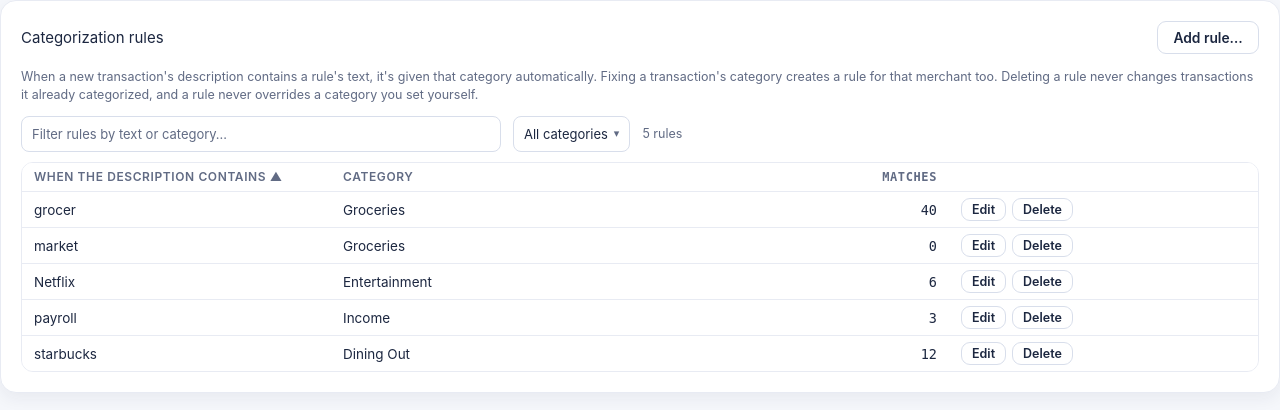
RulesManager list › can be narrowed to one category, and says how much of the list is showing
Step 1. Click the button "All categories ▾" → point(572, 134), box [513, 116, 630, 152]
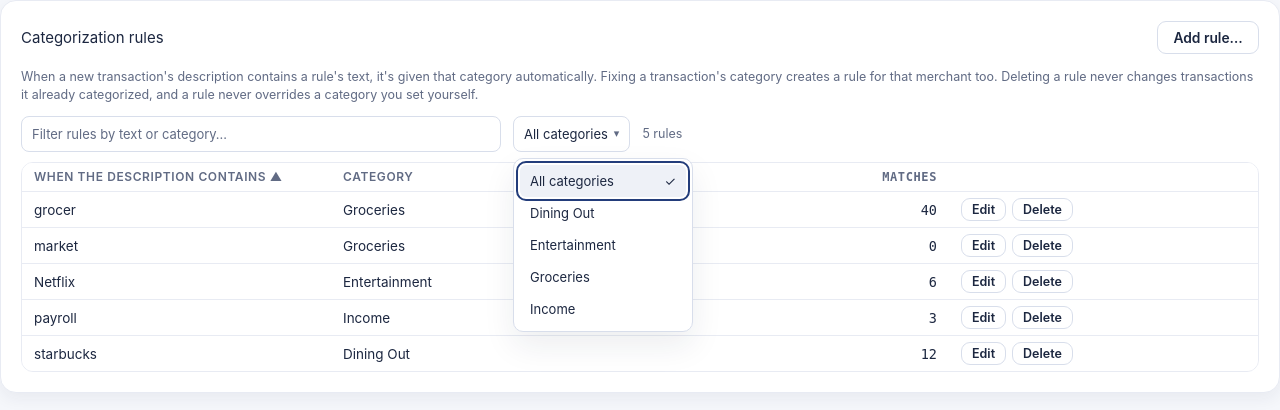
Step 2. Click the button "All categories ▾" → point(572, 134), box [513, 116, 630, 152]
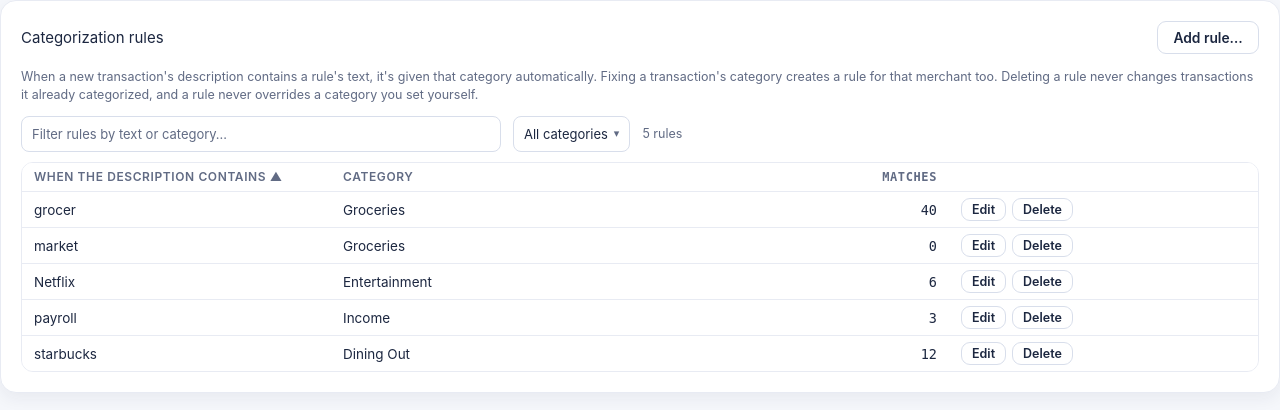
Step 3. Click the button "All categories ▾" → point(572, 134), box [513, 116, 630, 152]
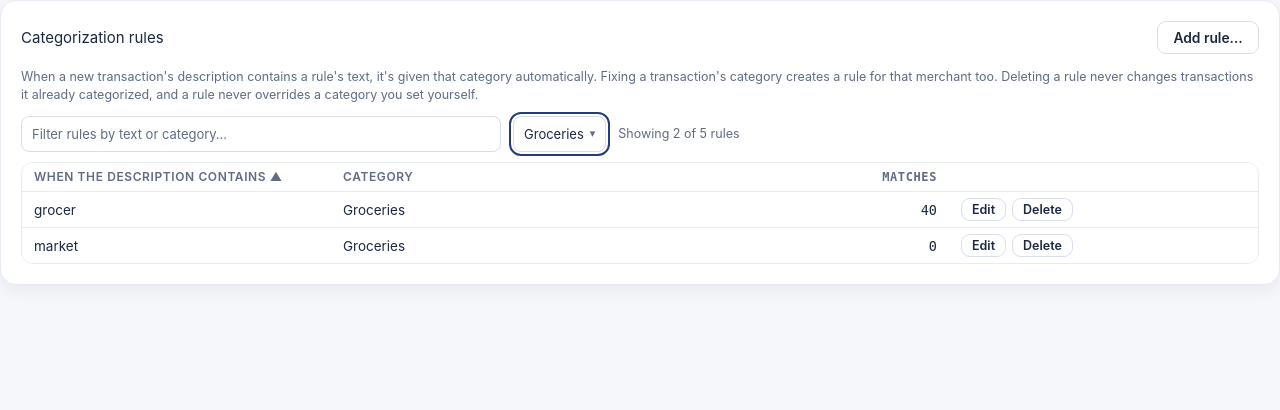
Now the text "Showing 2 of 5 rules" is shown, box [618, 125, 740, 142]
